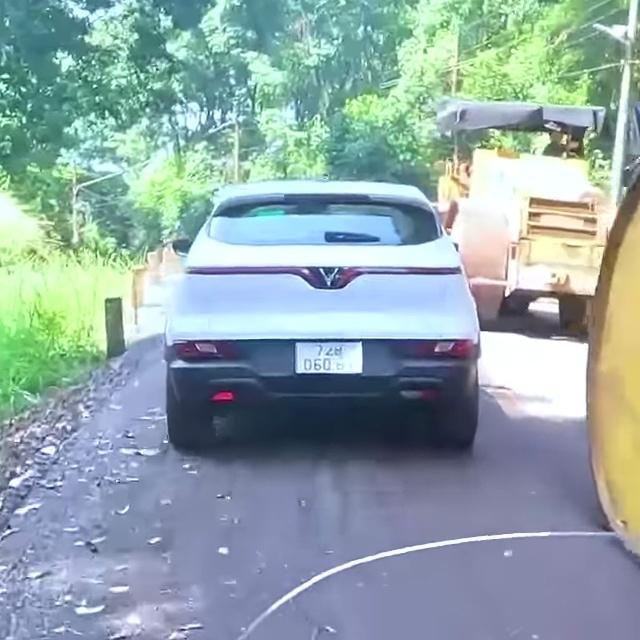license-plate: (295, 342, 360, 374)
